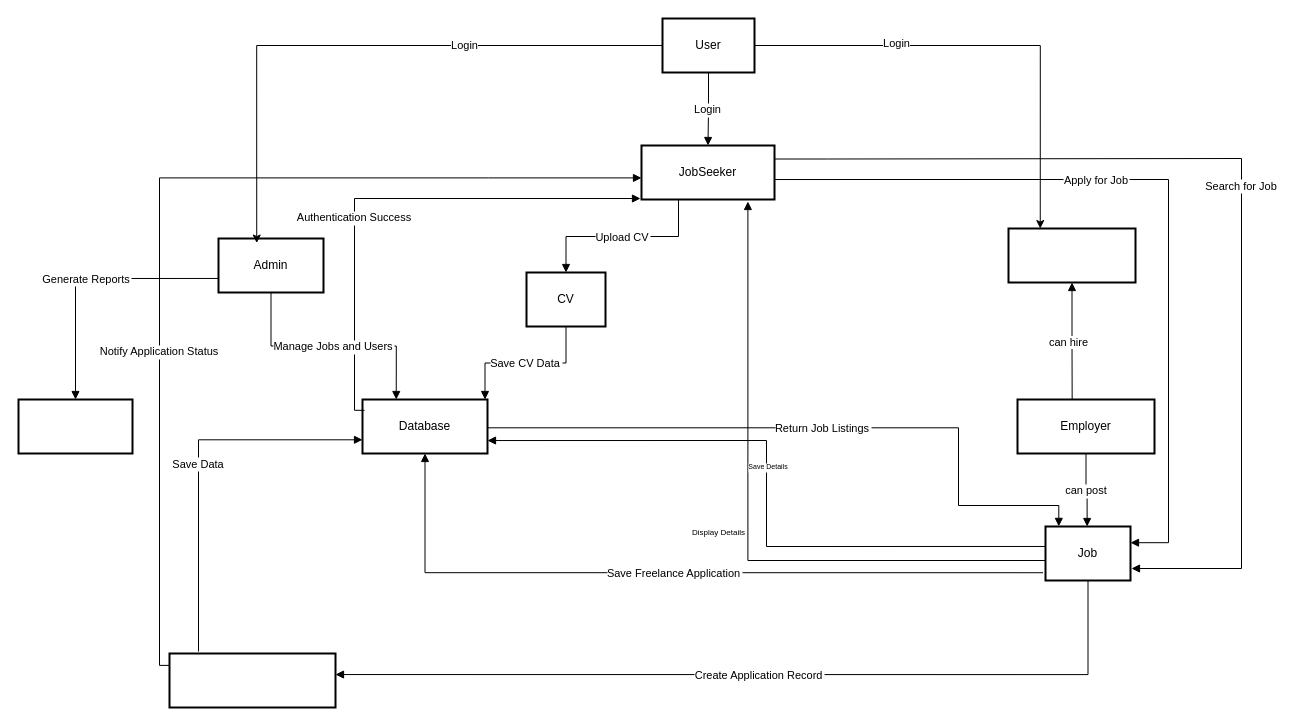
Some shapes in this 1295 by 725 pixel diagram are drawn without their labels. Here are the shapes that lost their labels. From the top down, the centre of each, then its label:
At pixel 1071 255: "Freelancer".
At pixel 75 426: "Reports".
At pixel 252 680: "JobApplication".
